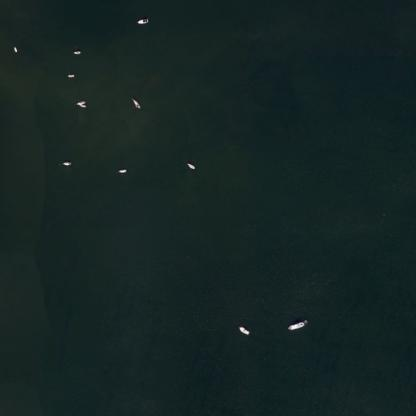ship: (180, 154, 202, 177), (284, 314, 310, 333), (233, 320, 254, 342), (130, 12, 155, 30), (110, 161, 134, 179), (124, 93, 145, 112), (56, 156, 76, 172), (68, 42, 84, 60), (72, 98, 90, 110), (9, 42, 21, 58), (62, 70, 76, 81)
